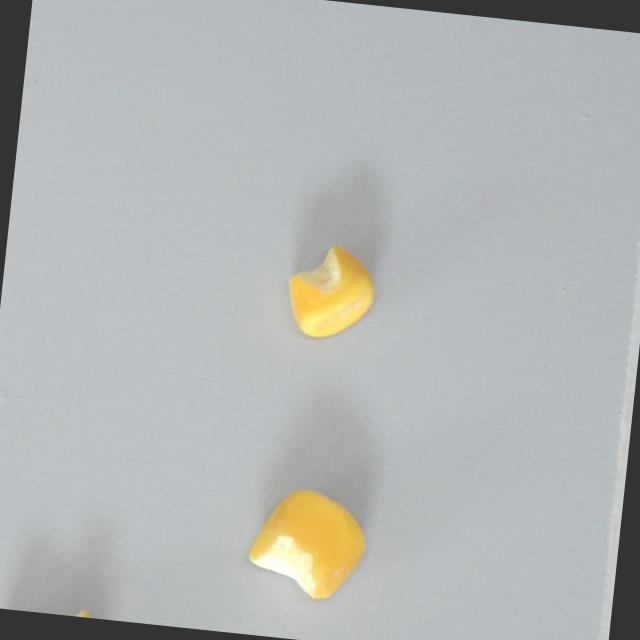dañado: (240, 477, 377, 606), (277, 234, 384, 347), (0, 595, 112, 620)
